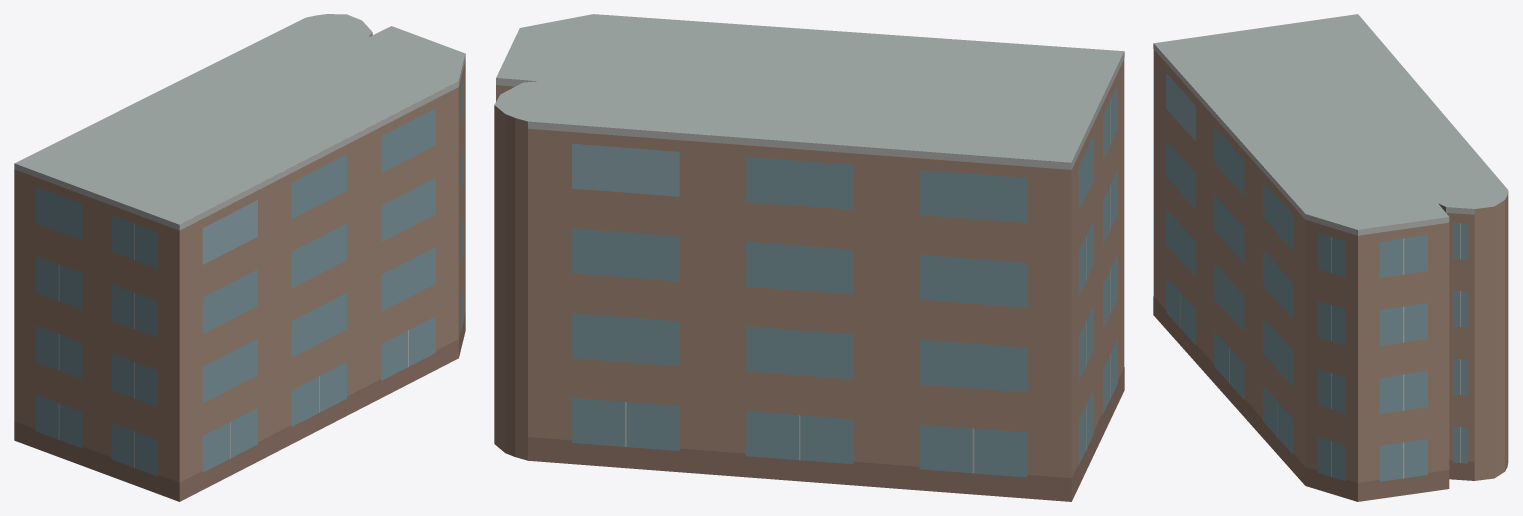
The model's file is survey-upis-32863636.glb.
3 views of the same model, side by side, from view 1: azimuth 30°, elevation 25°; view 2: azimuth 150°, elevation 25°; view 3: azimuth 270°, elevation 25° (orthographic). The views are drawn at different scales.
Visible parts, largest first — view 1: survey-upis-32863636.tmp; view 2: survey-upis-32863636.tmp; view 3: survey-upis-32863636.tmp.
Boxes of the visible parts, x1,y1,x2,y2 form: survey-upis-32863636.tmp: [14, 14, 465, 501]; survey-upis-32863636.tmp: [494, 14, 1124, 501]; survey-upis-32863636.tmp: [1153, 14, 1508, 501].
Bounding box in the file's own units: 19.6 × 11.5 × 13.61.
